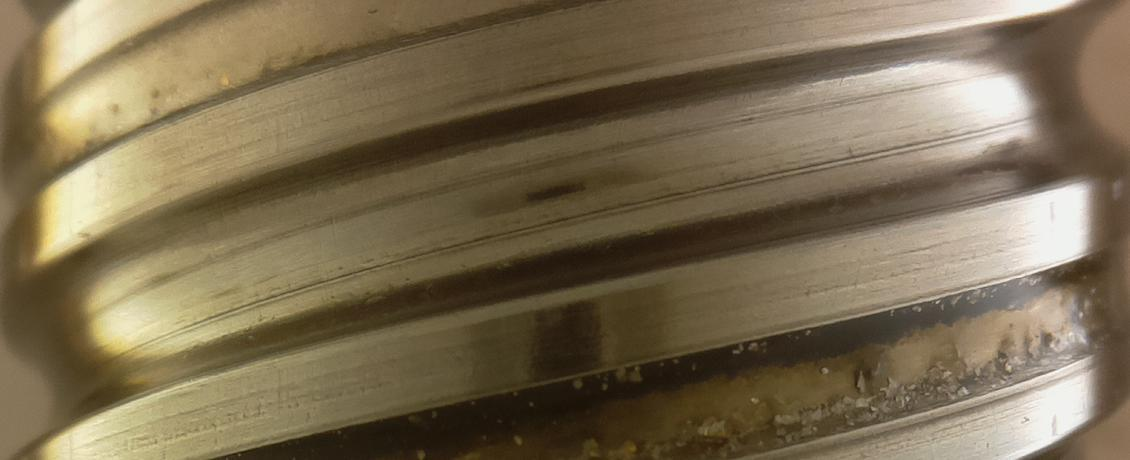pitting: (425, 283, 434, 299)
